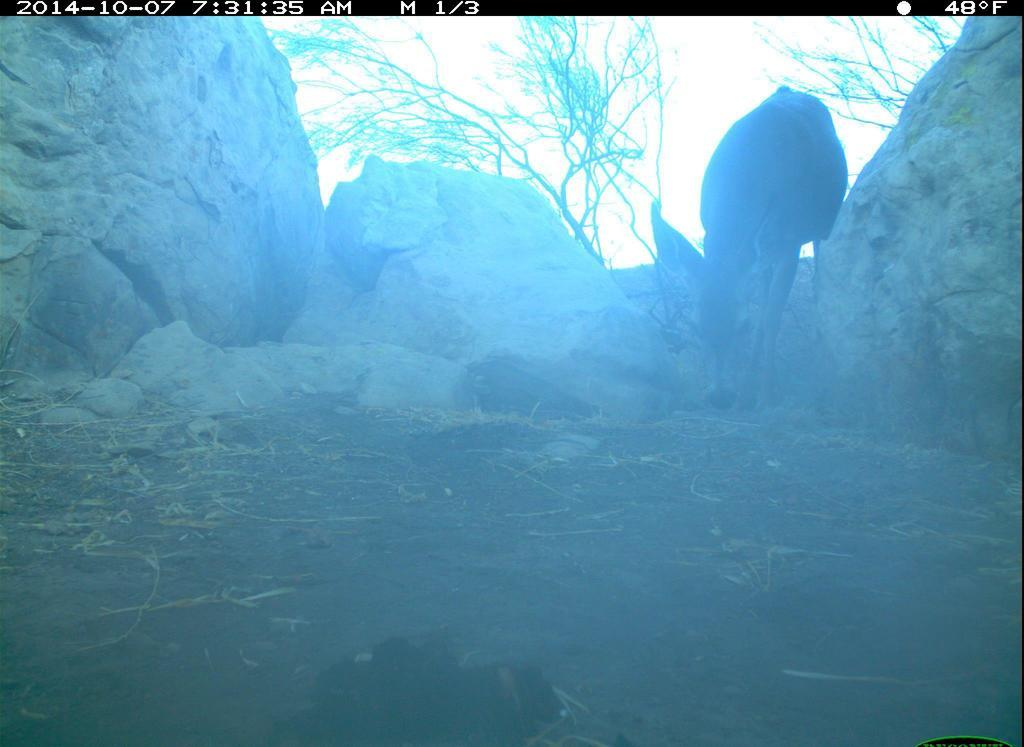deer: (634, 73, 866, 409)
